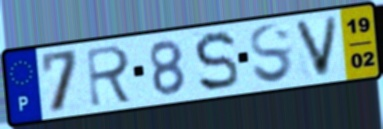7: (40, 48, 82, 115)
8: (148, 38, 188, 98)
R: (84, 42, 136, 110)
S: (191, 29, 241, 94), (247, 21, 295, 86)
V: (291, 14, 342, 81)
